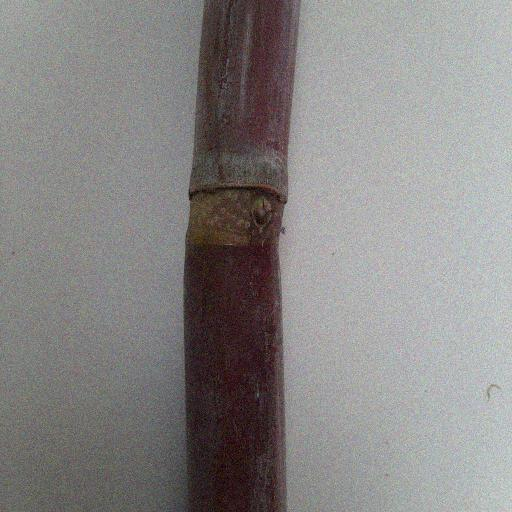Bud: (250, 194, 275, 232)
